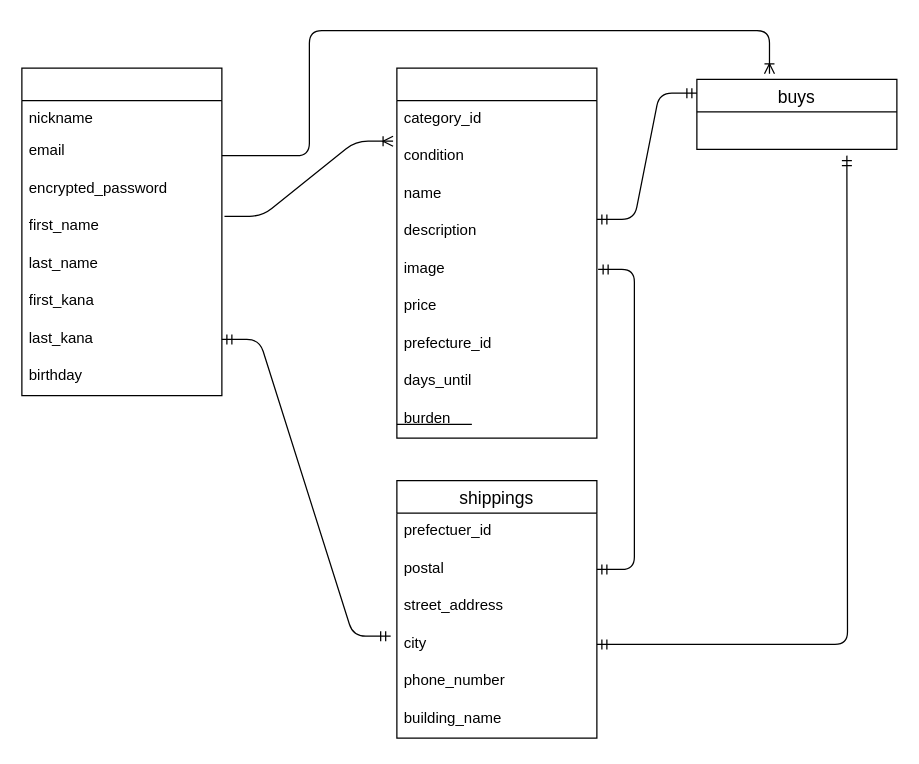
Image size: 919x764. Some labels were removed from this diagram. The shapes that lost their labels are listed below. From the top down, each one's box as (x1, y1, x2, y2) in pixels, then its label:
(21, 67, 222, 396): users
(396, 67, 597, 438): goods
